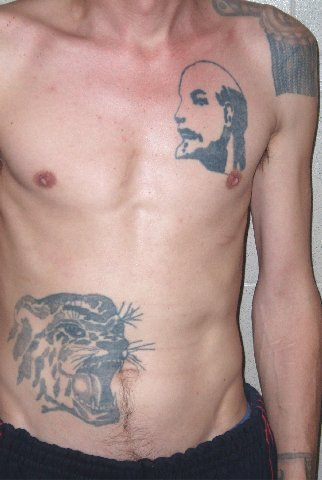tatu5_tigr: (4, 292, 157, 431)
